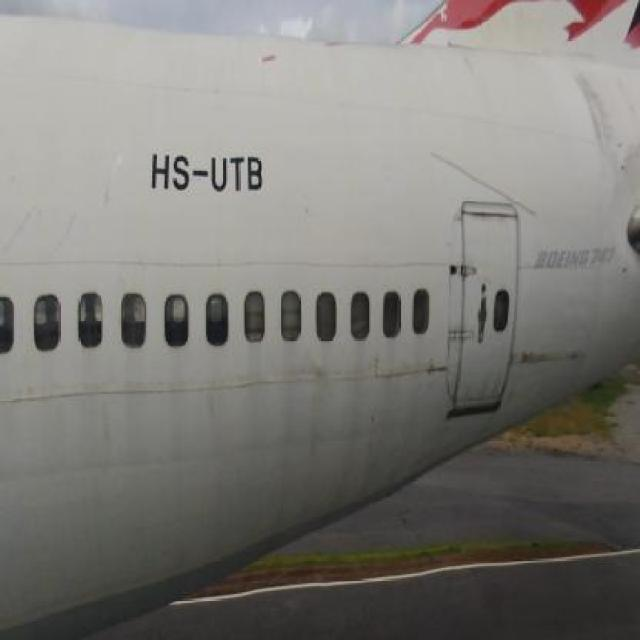Rust: (573, 70, 632, 179), (512, 335, 588, 382), (463, 368, 508, 412), (463, 202, 525, 230)
Scartch: (301, 350, 334, 479), (98, 164, 114, 221), (364, 357, 388, 392), (423, 353, 452, 381)
